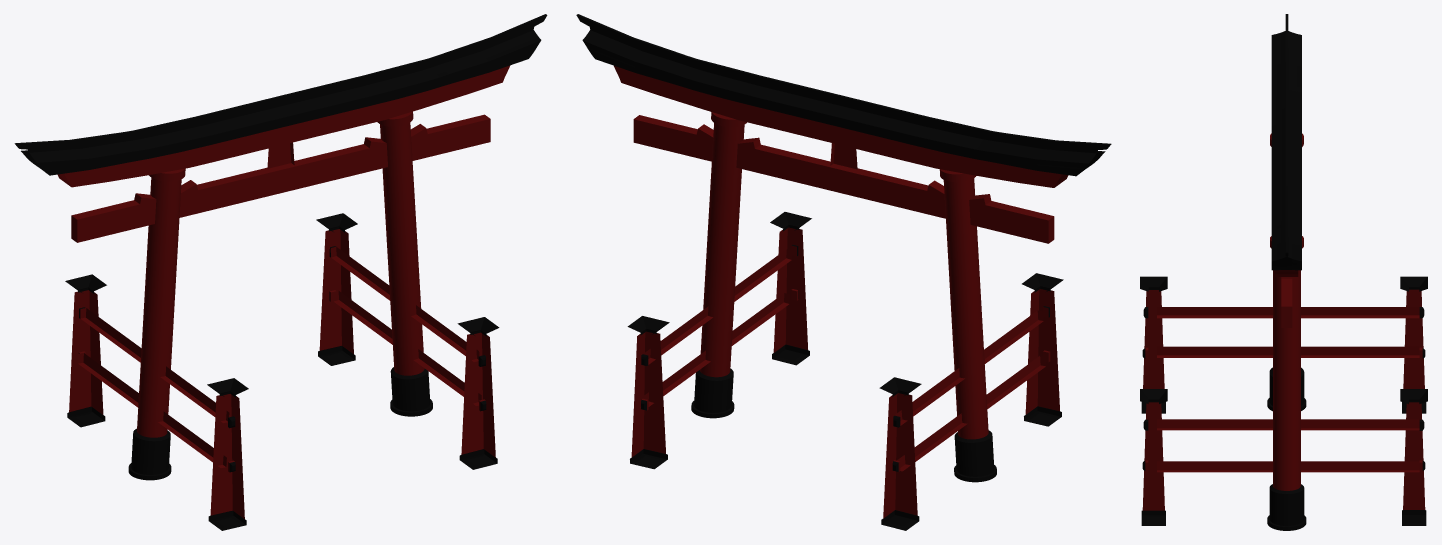
File: Ryoubu_2.obj
3 views of the same model, side by side, from view 1: azimuth 30°, elevation 25°; view 2: azimuth 150°, elevation 25°; view 3: azimuth 270°, elevation 25° (orthographic). The views are drawn at different scales.
Visible parts, largest first — view 1: Cube.039_Cube.058; view 2: Cube.039_Cube.058; view 3: Cube.039_Cube.058.
Boxes of the visible parts, left/top/right/bottom form: Cube.039_Cube.058: left=14, top=14, right=547, bottom=530; Cube.039_Cube.058: left=576, top=14, right=1111, bottom=530; Cube.039_Cube.058: left=1140, top=14, right=1427, bottom=530.
Bounding box in the file's own units: 20.47 × 13.27 × 10.44.
